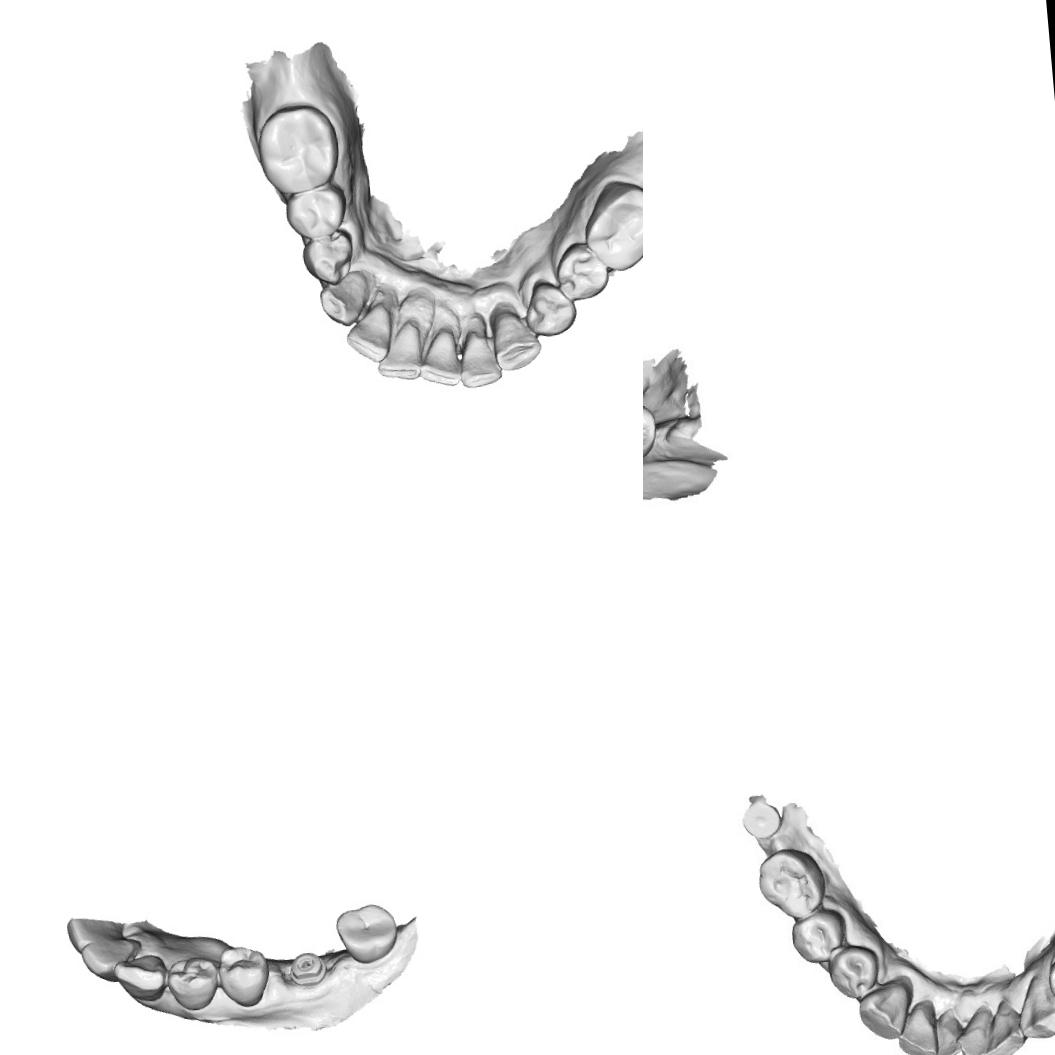canine: (856, 974, 915, 1042), (490, 302, 544, 372), (108, 951, 171, 1006), (316, 269, 370, 328), (1013, 969, 1055, 1041)
implant: (739, 798, 783, 841)
implant_minus: (284, 948, 328, 988)
incisor: (372, 318, 427, 384), (78, 934, 146, 985), (342, 302, 396, 365), (454, 326, 504, 390), (414, 324, 462, 390), (982, 993, 1032, 1055), (891, 1000, 942, 1055), (953, 1005, 996, 1055), (926, 1007, 965, 1055)
molar: (254, 100, 344, 196), (576, 176, 643, 274), (755, 842, 829, 924), (643, 396, 657, 464)
premolar: (330, 899, 401, 966), (548, 240, 613, 303), (215, 941, 273, 1010), (298, 227, 360, 288), (283, 183, 347, 239), (522, 278, 580, 339), (164, 954, 221, 1012), (826, 944, 877, 1001), (790, 910, 840, 960)
